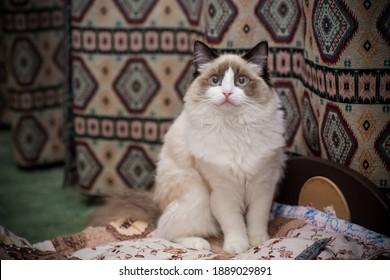ragdoll: (177, 26, 283, 129)
